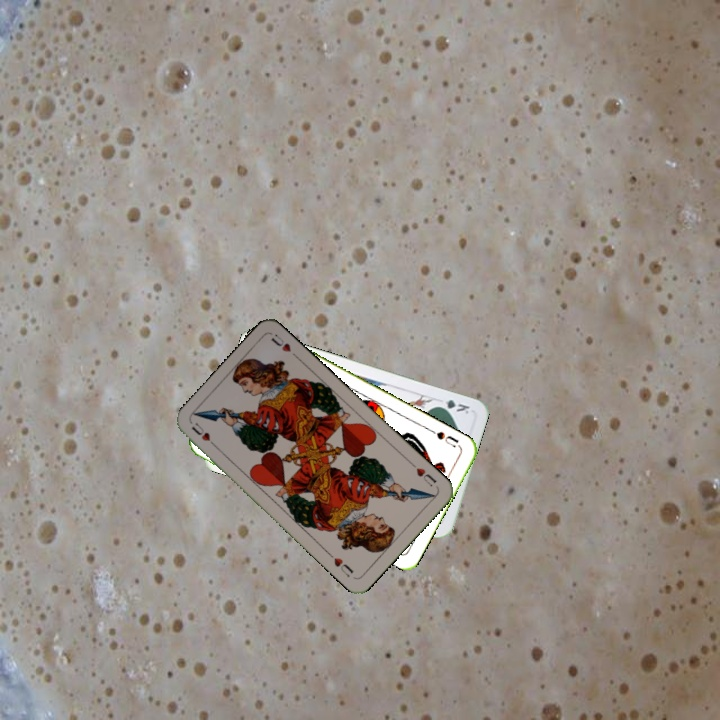GK: (432, 396, 472, 417)
HU: (188, 419, 220, 451), (407, 459, 439, 490)
SU: (426, 425, 463, 451)
